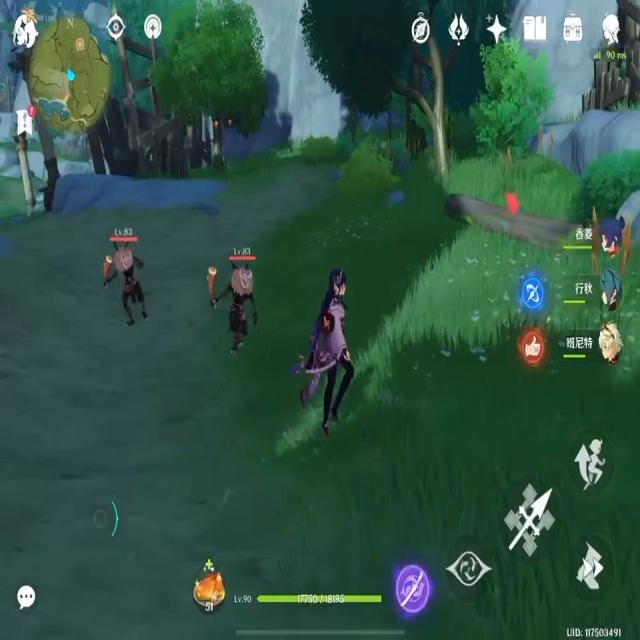genshin-hilichurls: (202, 256, 266, 352), (97, 239, 152, 329)
